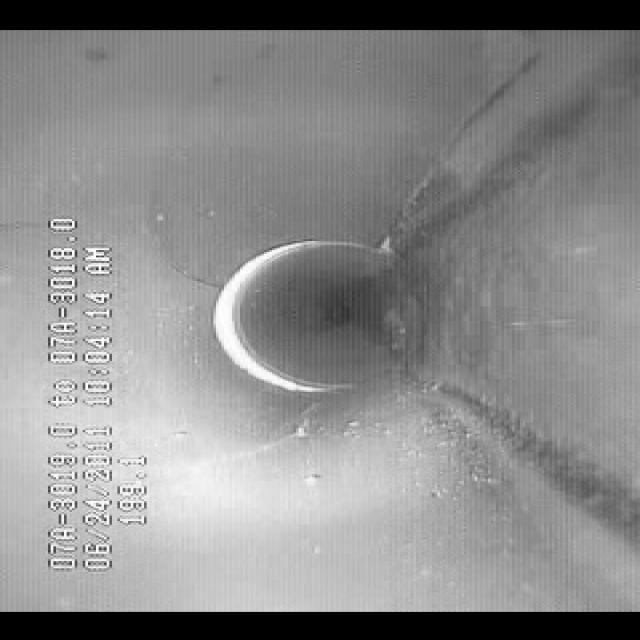Fracture: (360, 70, 504, 254)
